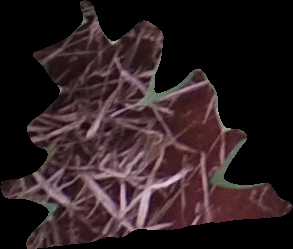soil: (1, 1, 292, 249)
